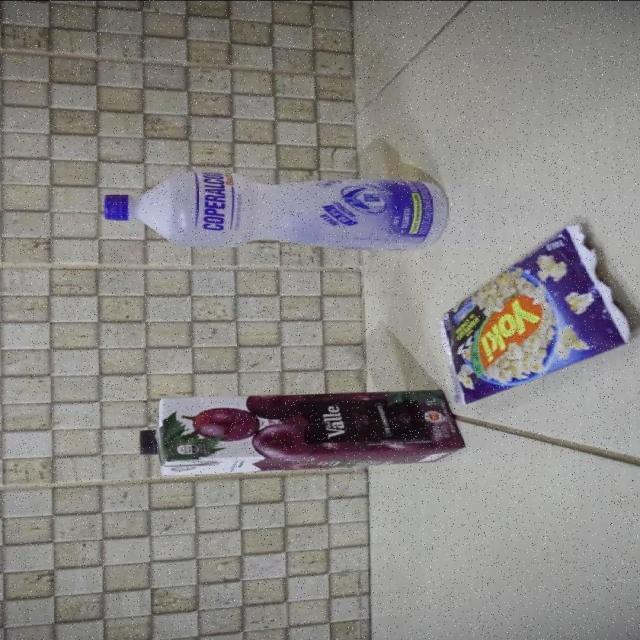AlcoholBottle: (100, 174, 445, 248)
Popcorn: (440, 221, 630, 402)
